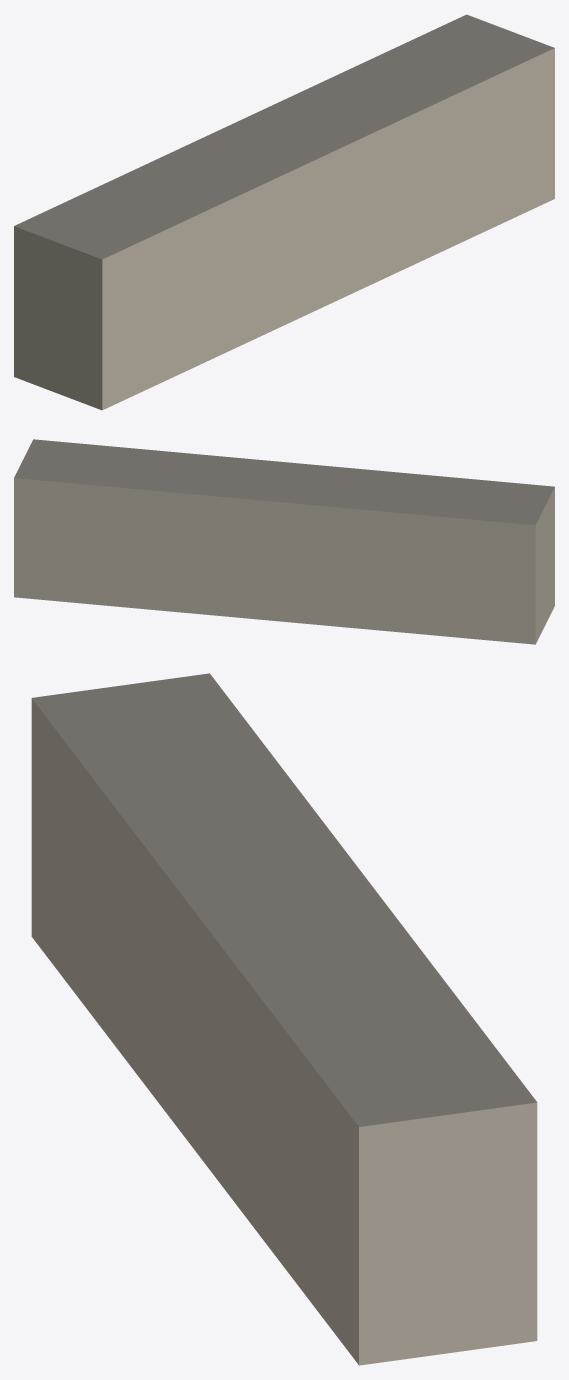
3 renders of one model, top to bottom at view 1: azimuth 30°, elevation 25°; view 2: azimuth 150°, elevation 25°; view 3: azimuth 270°, elevation 25°, orthographic. The views are drawn at different scales.
Visible parts, largest first — view 1: HP-w446933499; view 2: HP-w446933499; view 3: HP-w446933499.
Boxes of the visible parts, x1=… form: HP-w446933499: x1=14, y1=14, x2=554, y2=410; HP-w446933499: x1=14, y1=439, x2=554, y2=644; HP-w446933499: x1=31, y1=673, x2=537, y2=1365.
Size of the model in its own units: 73.43 by 18 by 34.6.
